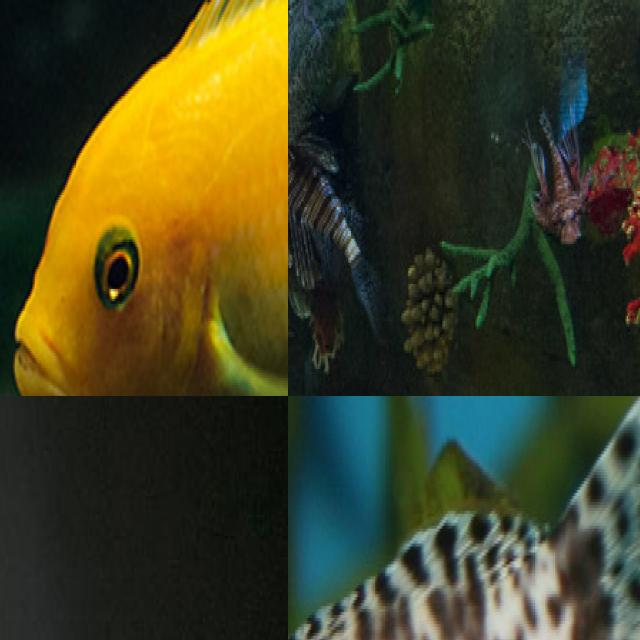fish: (0, 0, 288, 396), (288, 396, 640, 640)
